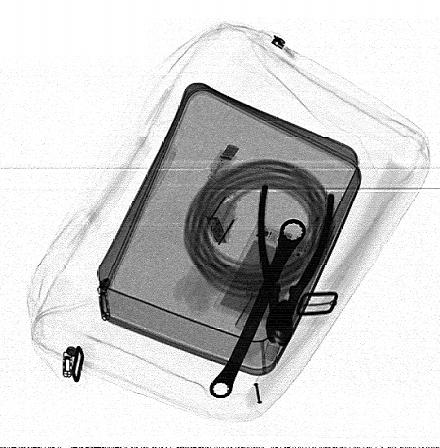Pliers: (258, 183, 338, 348)
Powerbank: (212, 221, 310, 328)
Wrench: (210, 221, 307, 399)
